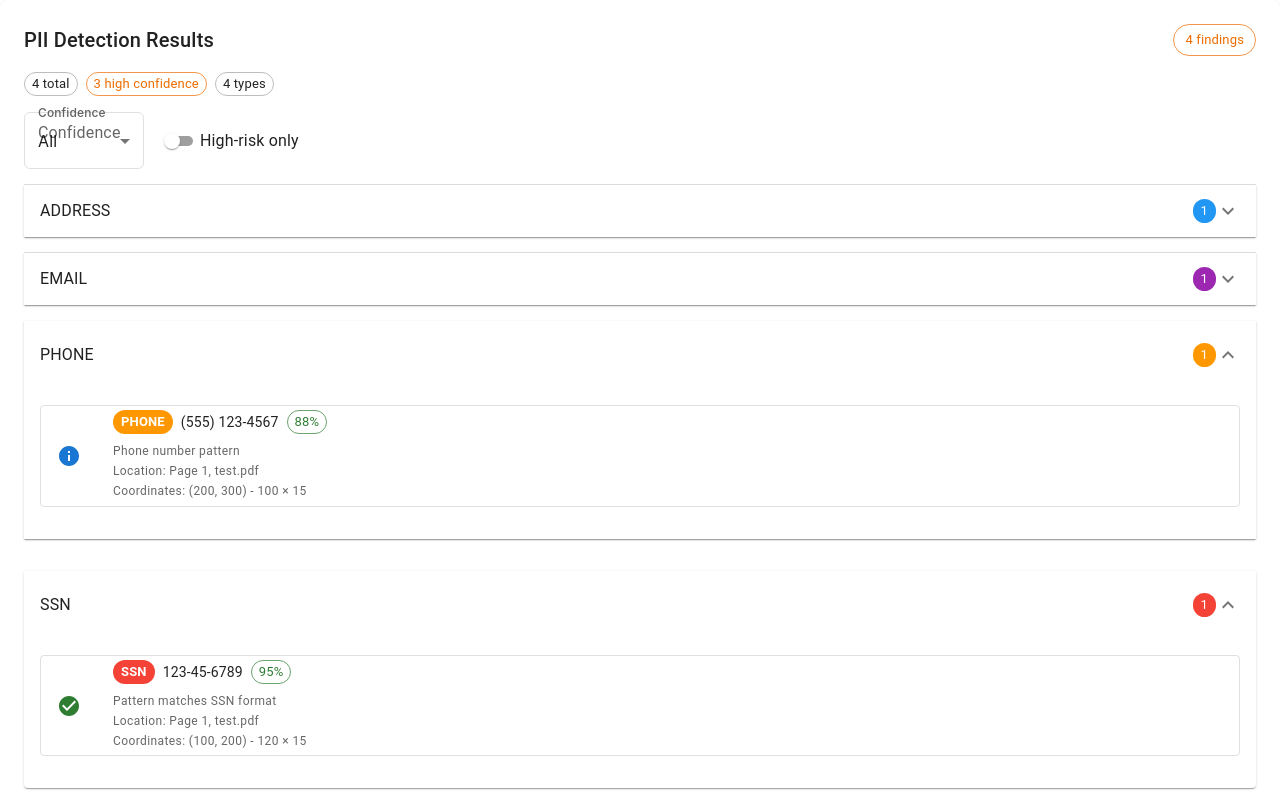
Test case: PIIFindings › should filter by high-risk PII types only
Expected: the text "4 findings" is shown, [1185,32,1244,47]
// Toggle high-risk only filter
Click the text "High-risk only": {"x": 249, "y": 140} [200,128,299,152]
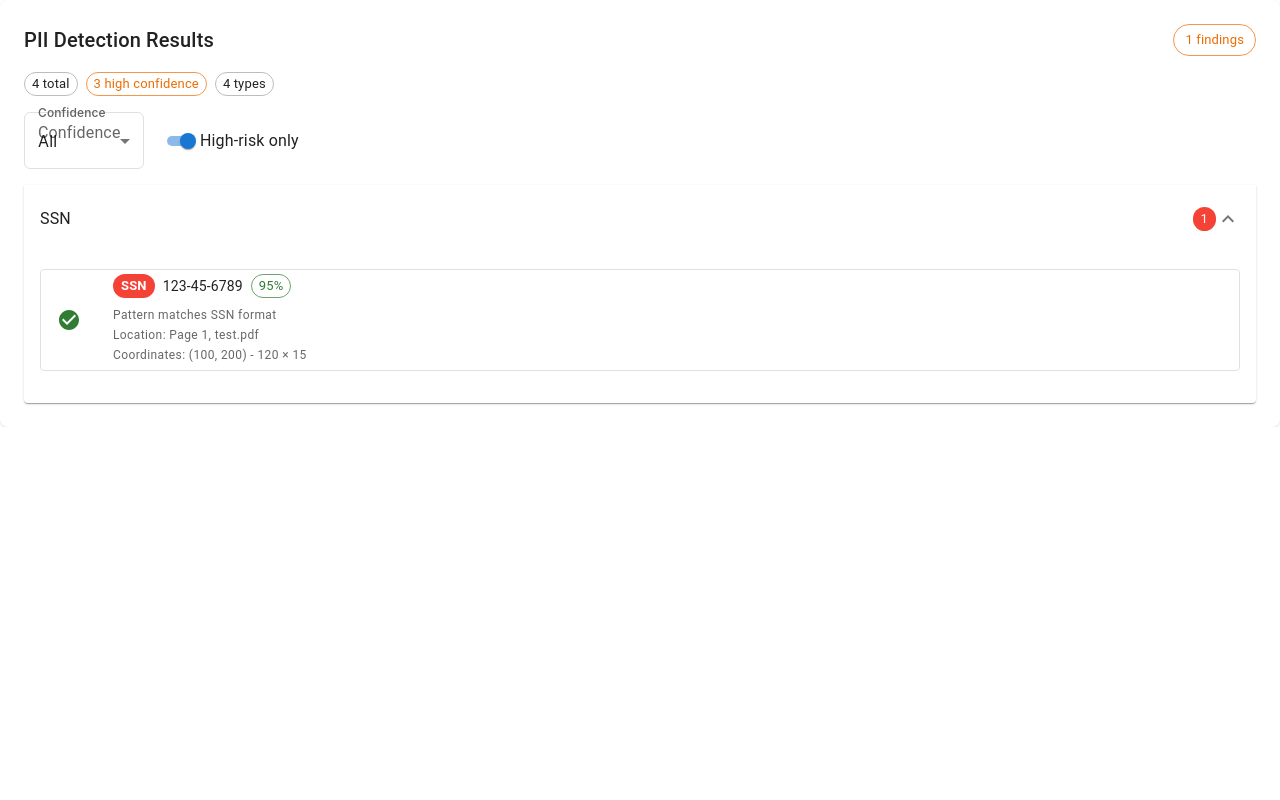
Result: the text "1 findings" is shown at [1185,32,1244,47]
